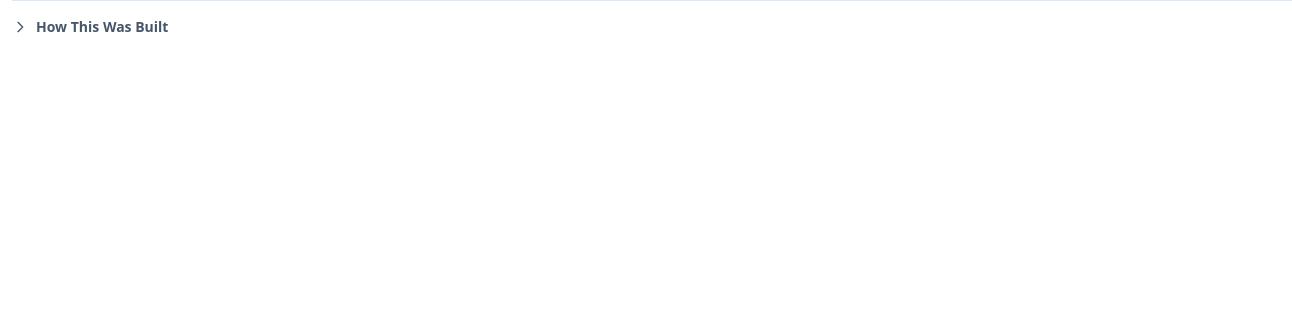
Test: BuildNote › Toggle Behavior › toggles between collapsed and expanded on button click
Expected: the text "How the Lesson Interface is Typed" is not shown
Click to expand
Click the button "How This Was Built" at (90, 27), box x1=12 y1=17 x2=168 y2=37
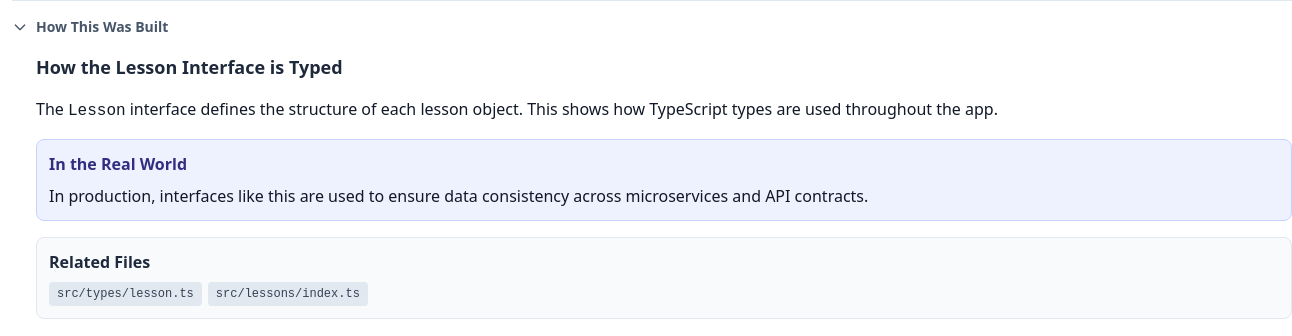
Expected: the heading "How the Lesson Interface is Typed" is shown, x1=36 y1=55 x2=343 y2=79
Click to collapse
Click the button "How This Was Built" at (90, 27), box x1=12 y1=17 x2=168 y2=37
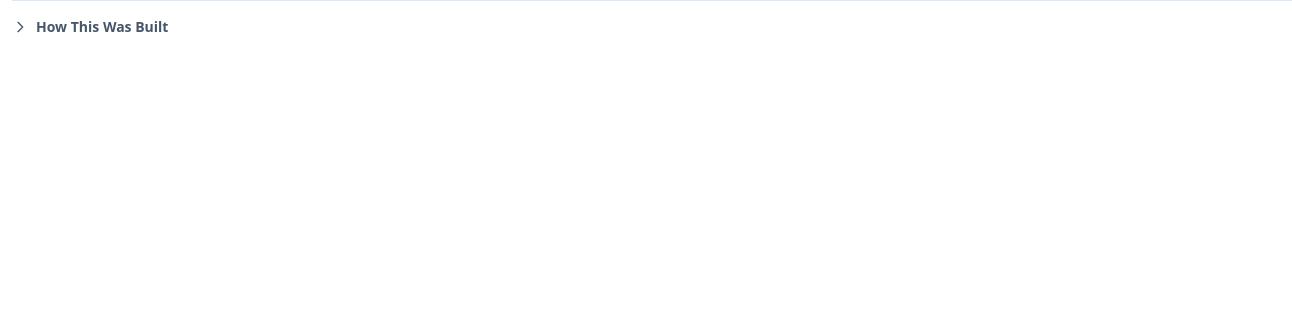
Expected: the heading "How the Lesson Interface is Typed" is gone
